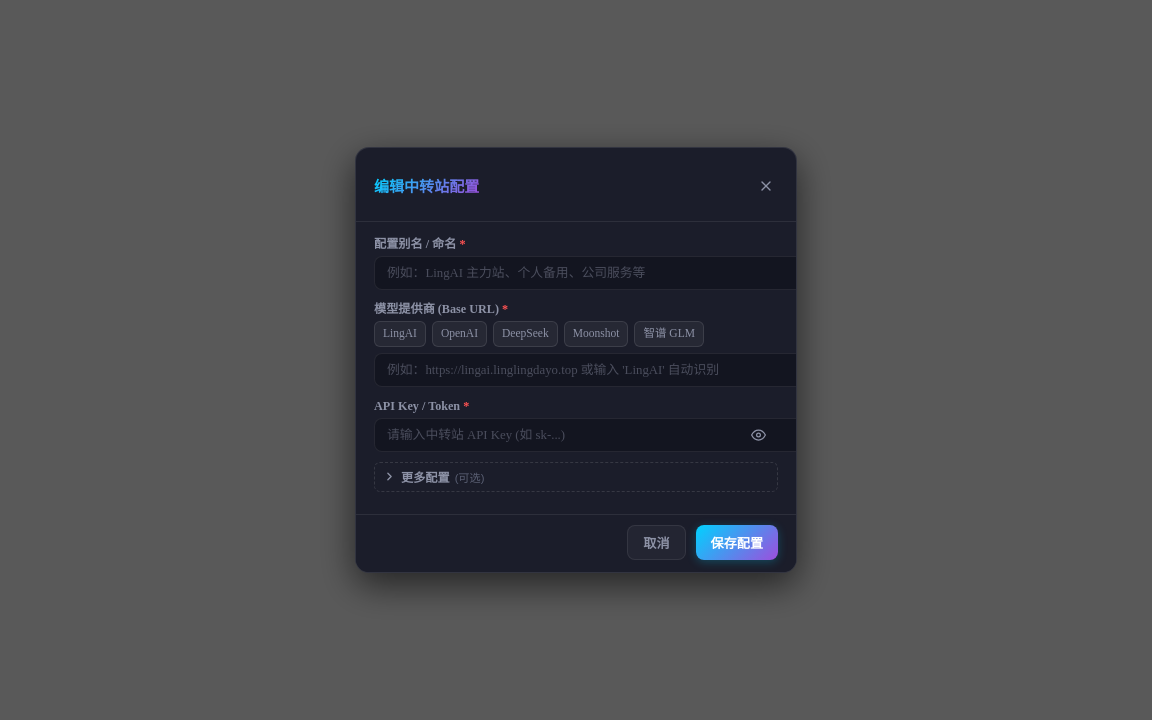
Test case: PresetModal.vue component › 点击预设标签时应填充 URL
Click the text with class "chip" showing "OpenAI" at (459, 334), box [432, 321, 487, 347]
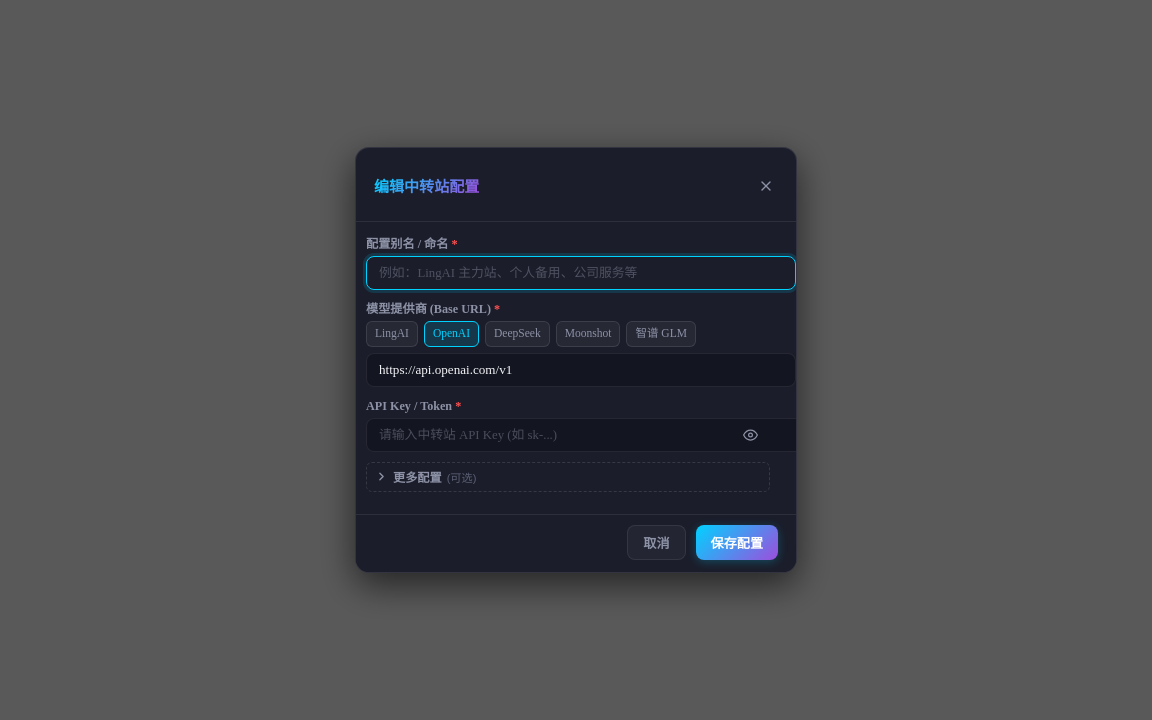
Result: the field with id "modal-preset-url" holds "https://api.openai.com/v1" at [366, 353, 796, 387]
